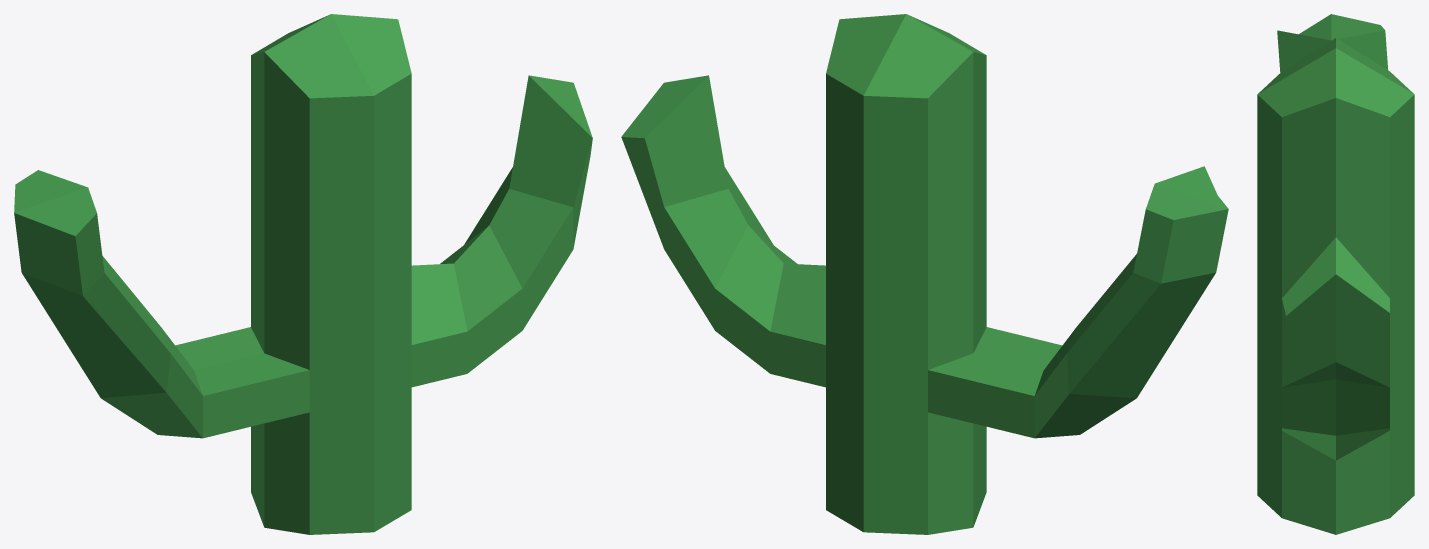
Rendered from cactus 1.fbx.
The picture shows the model from 3 angles, left to right: view 1: azimuth 30°, elevation 25°; view 2: azimuth 150°, elevation 25°; view 3: azimuth 270°, elevation 25°; orthographic projection. The views are drawn at different scales.
Visible parts, largest first — view 1: Cube; view 2: Cube; view 3: Cube.
Part boxes in pixels (box(x1,y1,x2,y2)): Cube: box(14, 14, 592, 534); Cube: box(621, 14, 1228, 534); Cube: box(1257, 14, 1414, 534).
Bounding box in the file's own units: 520 × 430 × 134.
